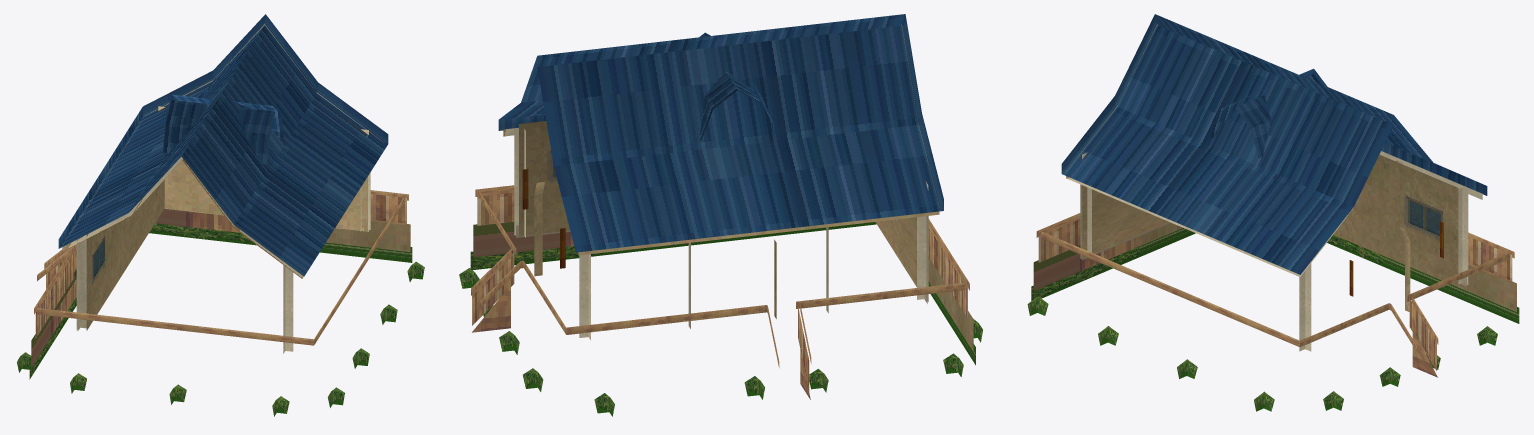
File: ps2_save-icons_winningpost5-story.glb
3 renders of one model, left to right at view 1: azimuth 30°, elevation 25°; view 2: azimuth 150°, elevation 25°; view 3: azimuth 270°, elevation 25°, orthographic. The views are drawn at different scales.
Visible parts, largest first — view 1: ic_game.ico; view 2: ic_game.ico; view 3: ic_game.ico.
Boxes of the visible parts, x1,y1,x2,y2 form: ic_game.ico: (17, 14, 424, 416); ic_game.ico: (459, 14, 982, 416); ic_game.ico: (1027, 14, 1519, 411).
Bounding box in the file's own units: 4.93 × 2.76 × 4.96.
Materials: 1 (1 with a texture image).
